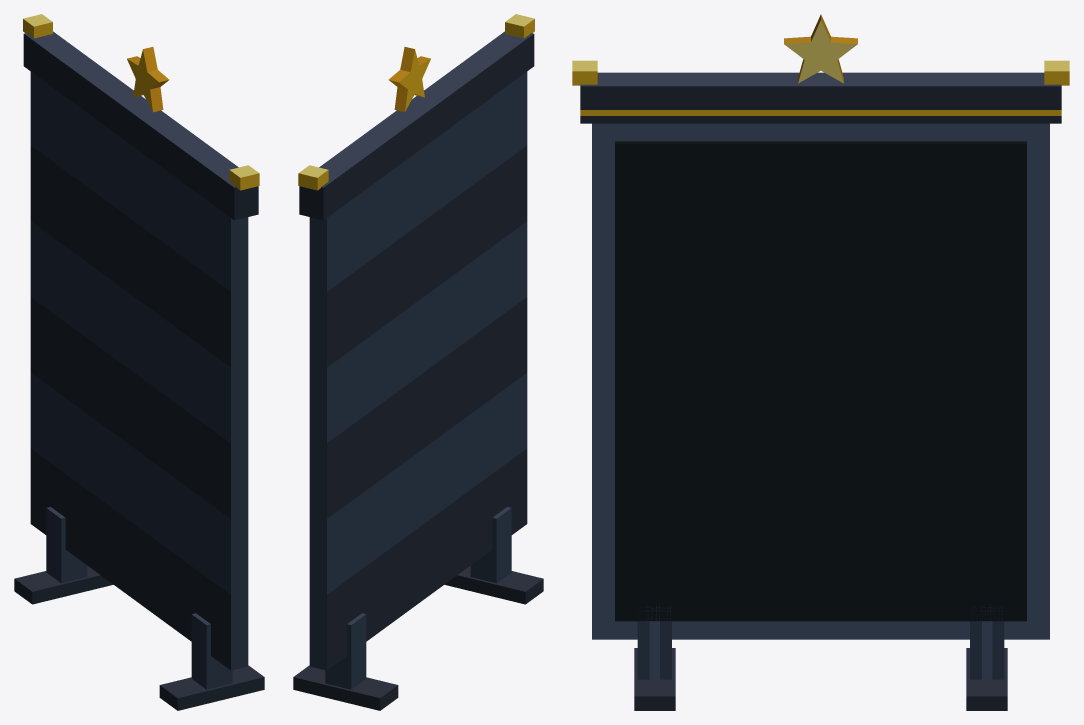
The model's file is leaderboard.glb.
3 views of the same model, side by side, from view 1: azimuth 30°, elevation 25°; view 2: azimuth 150°, elevation 25°; view 3: azimuth 270°, elevation 25° (orthographic). The views are drawn at different scales.
Parts seen in each view (by area): view 1: leaderboard; view 2: leaderboard; view 3: leaderboard.
Part boxes in pixels (left/top/right/bottom): leaderboard: left=14, top=14, right=264, bottom=710; leaderboard: left=293, top=14, right=543, bottom=710; leaderboard: left=572, top=14, right=1069, bottom=710.
Size of the model in its own units: 1 by 6.5 by 4.34.
